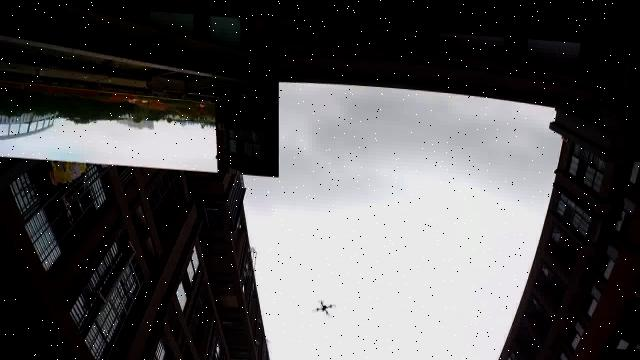drone: (314, 295, 336, 313)
